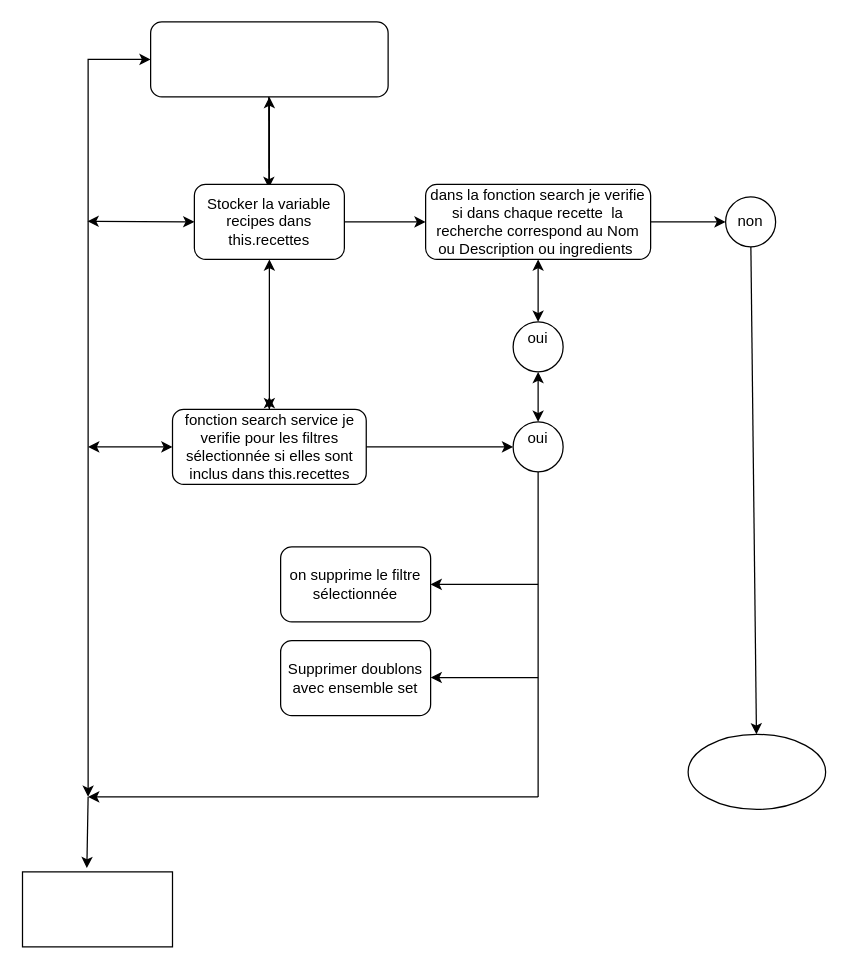
Image size: 848x969. Some labels were removed from this diagram. Each missing label, with the centre of its shape:
Affichage du resultat final des recettes: point 96,909
Init service de recherche SearchService avec les recettes du tableau: point 268,59
Message d'erreur: point 756,771
